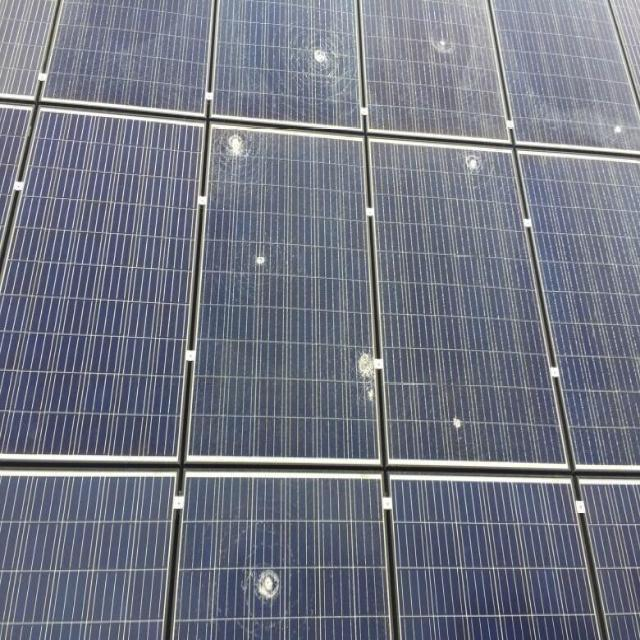Physical-damage: (243, 553, 296, 609), (294, 28, 346, 84), (350, 338, 375, 410), (423, 22, 463, 62), (215, 130, 259, 162), (446, 406, 469, 437), (459, 153, 489, 175), (250, 243, 271, 272), (610, 120, 628, 138)
